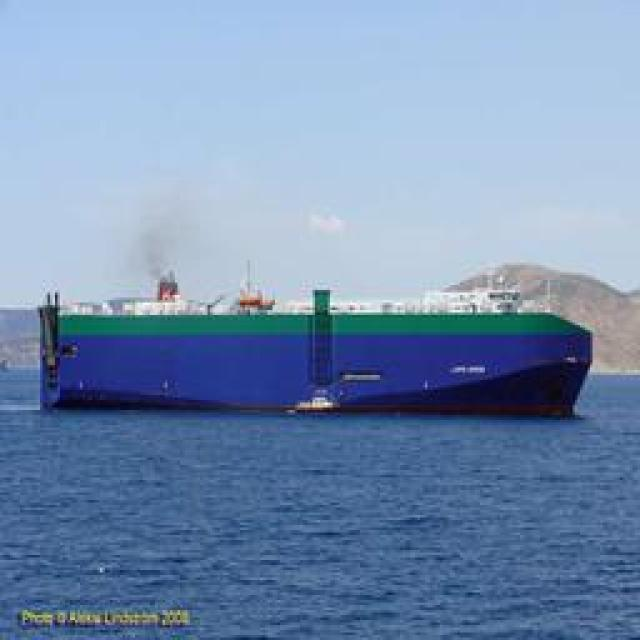CIV_Ship: (37, 282, 595, 422)
